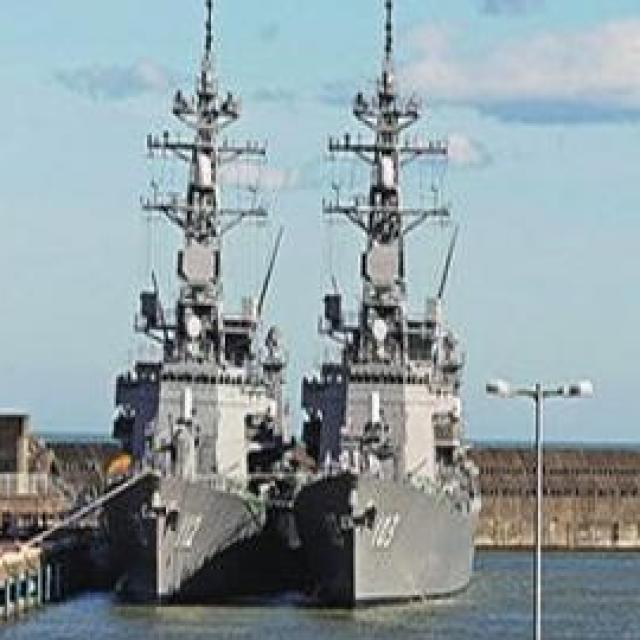navalvessels: (90, 0, 303, 593), (296, 0, 498, 602)
